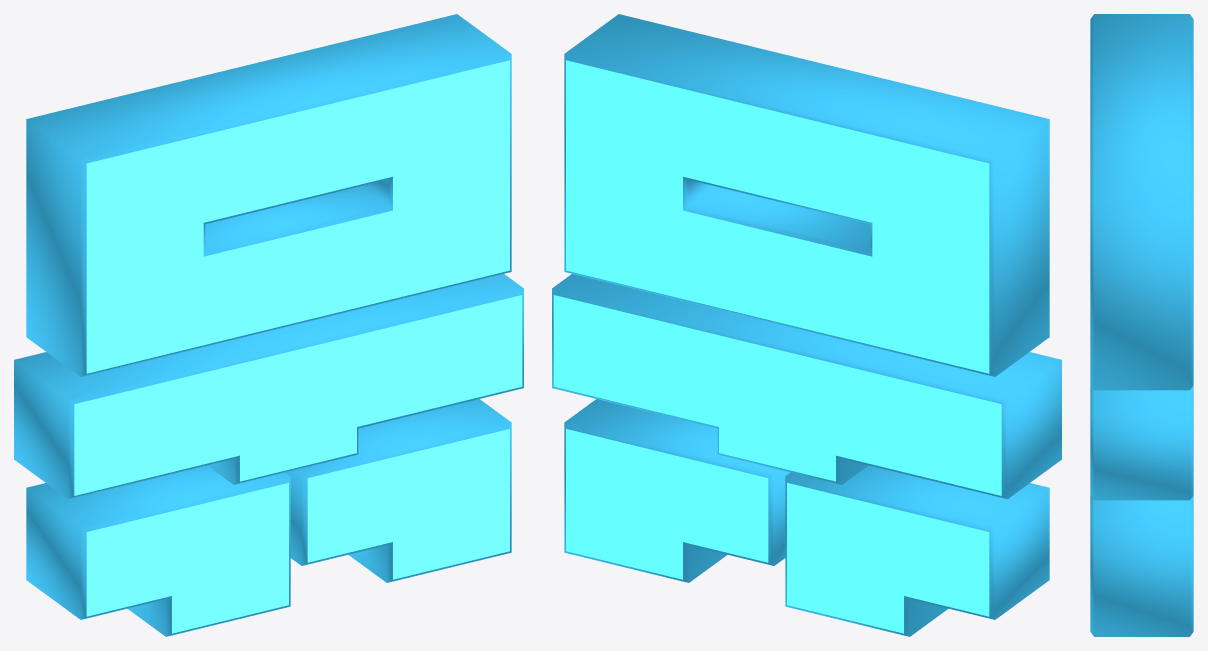
3 renders of one model, left to right at view 1: azimuth 30°, elevation 25°; view 2: azimuth 150°, elevation 25°; view 3: azimuth 270°, elevation 25°, orthographic. The views are drawn at different scales.
Visible parts, largest first — view 1: glyph; view 2: glyph; view 3: glyph.
Part boxes in pixels (bbox=[...]): glyph: bbox=[14, 14, 523, 636]; glyph: bbox=[552, 14, 1061, 636]; glyph: bbox=[1090, 14, 1193, 636].
Size of the model in its own units: 0.0726 by 0.076 by 0.0162.
